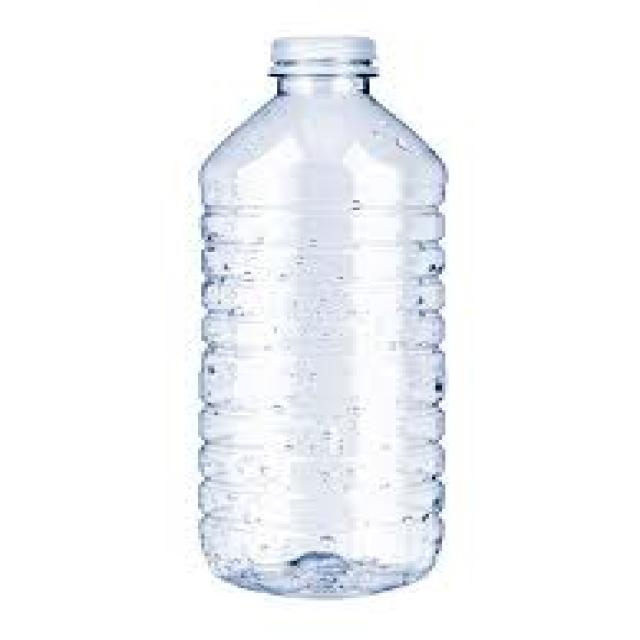plastic cup: (200, 37, 446, 596)
